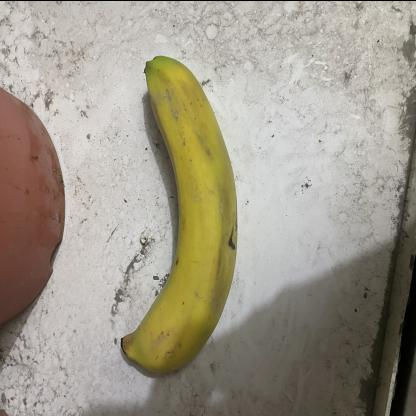banana: (116, 53, 242, 380)
